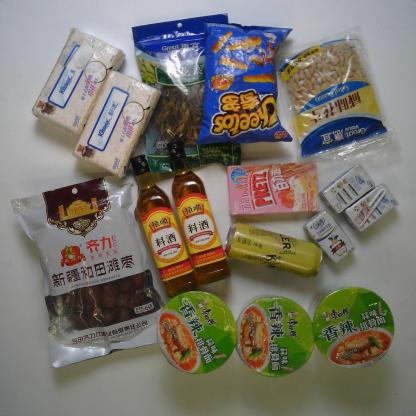Alcohol: (224, 220, 324, 278)
Dessert: (225, 160, 318, 216)
Dried Food: (11, 170, 169, 370), (129, 11, 244, 175)
Dried Fruit: (276, 31, 391, 161)
Instant Noodles: (312, 284, 394, 370), (156, 290, 236, 375), (235, 296, 312, 378)
Milk: (303, 210, 357, 266), (319, 162, 375, 215), (344, 184, 399, 233)
Puffed Food: (196, 21, 294, 146)
Seasoner: (128, 151, 198, 296), (165, 138, 231, 286)
Tissue: (29, 27, 126, 136), (73, 70, 163, 179)
